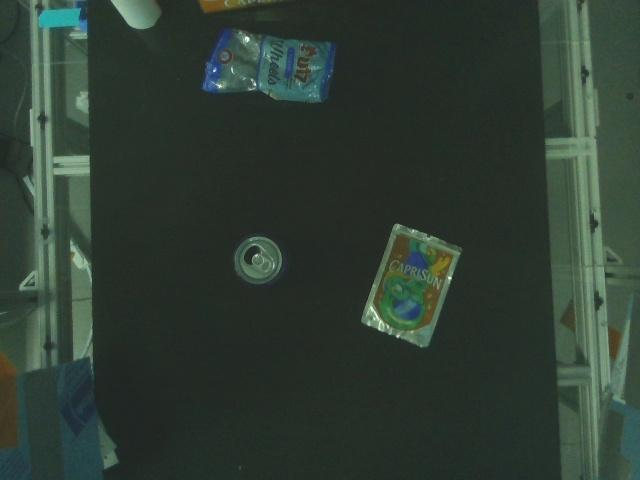cardboard: (106, 0, 167, 31), (191, 0, 291, 16)
metal: (227, 227, 296, 295)
plastic: (356, 219, 467, 351), (195, 23, 343, 107)
